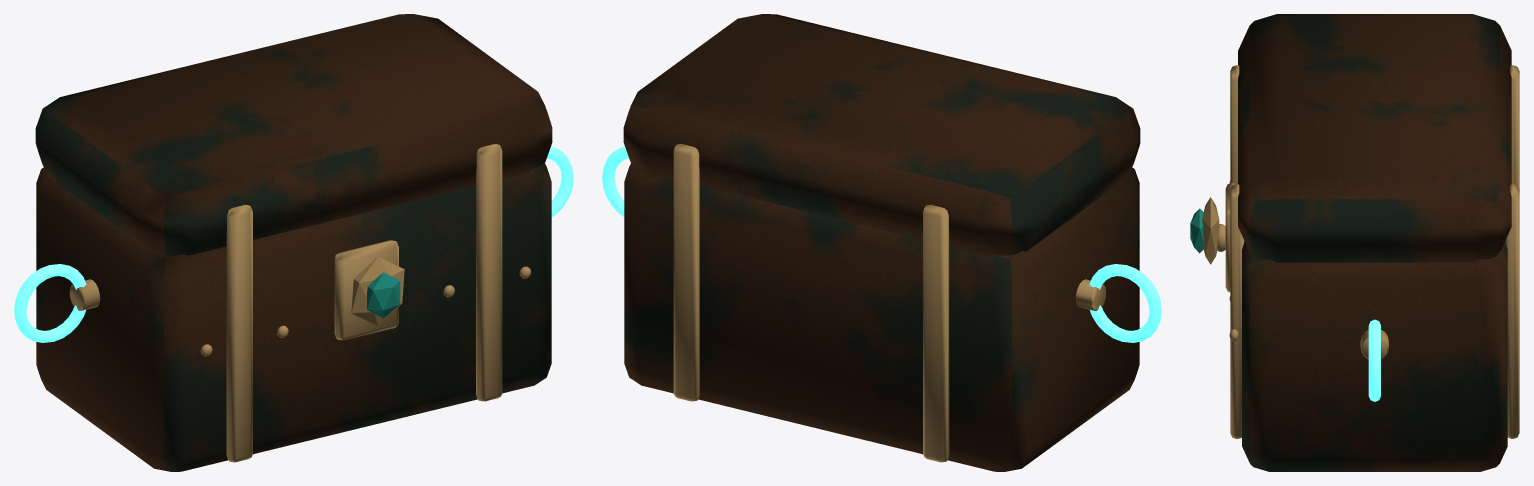
The model's file is relic_chest.fbx.
3 views of the same model, side by side, from view 1: azimuth 30°, elevation 25°; view 2: azimuth 150°, elevation 25°; view 3: azimuth 270°, elevation 25° (orthographic). The views are drawn at different scales.
Parts seen in each view (by area): view 1: Reviewed_relic_chest_Body.003, TH10_Chest_Handle.006, TH10_Chest_Handle.005; view 2: Reviewed_relic_chest_Body.003, TH10_Chest_Handle.006, TH10_Chest_Handle.005; view 3: Reviewed_relic_chest_Body.003, TH10_Chest_Handle.005.
Part boxes in pixels (x1,y1,x2,y2): Reviewed_relic_chest_Body.003: [35, 14, 552, 471]; TH10_Chest_Handle.006: [14, 264, 86, 342]; TH10_Chest_Handle.005: [547, 146, 573, 216]; Reviewed_relic_chest_Body.003: [623, 14, 1140, 471]; TH10_Chest_Handle.006: [1089, 264, 1161, 342]; TH10_Chest_Handle.005: [602, 146, 628, 216]; Reviewed_relic_chest_Body.003: [1190, 14, 1519, 471]; TH10_Chest_Handle.005: [1368, 319, 1380, 401].
Bounding box in the file's own units: 0.806 × 0.41 × 0.4209.
4 materials, 1 textured.
